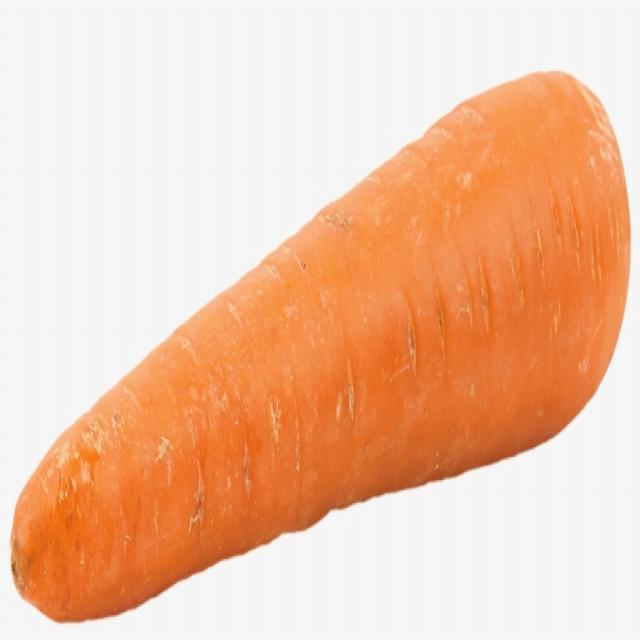Carrot: (6, 72, 635, 631)
